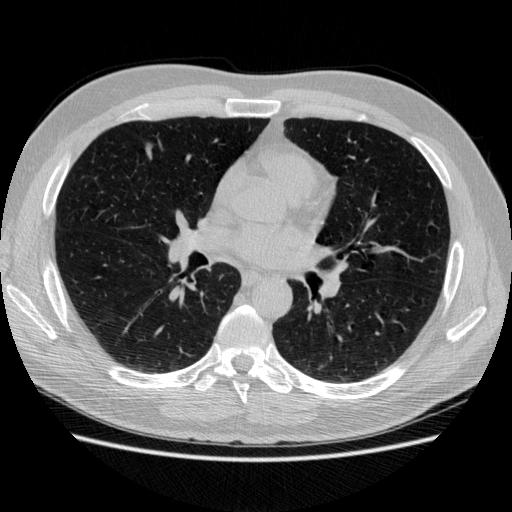nodule: (142, 143, 157, 158)
